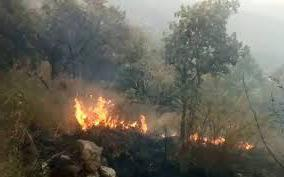fire: (69, 91, 153, 137), (191, 131, 228, 148)
